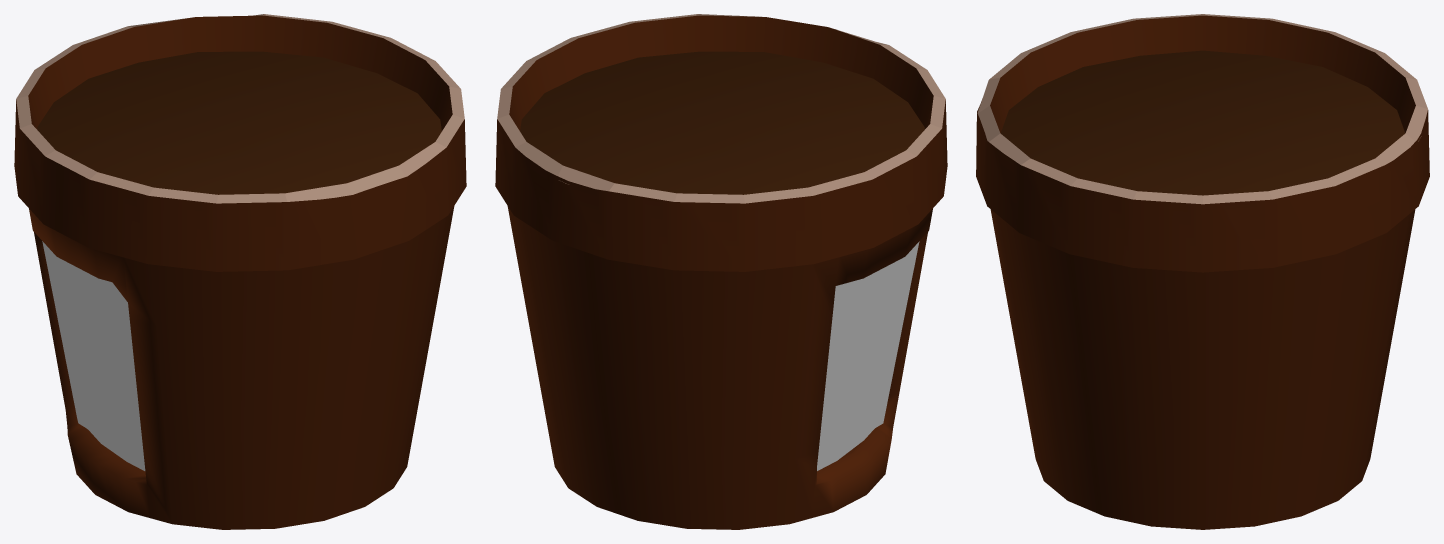
Rendered from pot_flat.glb.
3 views of the same model, side by side, from view 1: azimuth 30°, elevation 25°; view 2: azimuth 150°, elevation 25°; view 3: azimuth 270°, elevation 25° (orthographic).
Visible parts, largest first — view 1: polySurface8, polySurface8.002, FlatScreen, polySurface8.001; view 2: polySurface8, polySurface8.002, FlatScreen, polySurface8.001; view 3: polySurface8, polySurface8.002, polySurface8.001.
Boxes of the visible parts, <box> form: polySurface8: <box>14,15,466,529</box>; polySurface8.002: <box>37,51,441,194</box>; FlatScreen: <box>42,241,145,470</box>; polySurface8.001: <box>16,14,464,203</box>; polySurface8: <box>495,15,947,529</box>; polySurface8.002: <box>520,51,924,194</box>; FlatScreen: <box>817,241,919,470</box>; polySurface8.001: <box>497,14,945,203</box>; polySurface8: <box>976,15,1429,529</box>; polySurface8.002: <box>1000,50,1405,195</box>; polySurface8.001: <box>977,14,1427,204</box>.
Size of the model in its own units: 0.1094 by 0.0941 by 0.1094.
